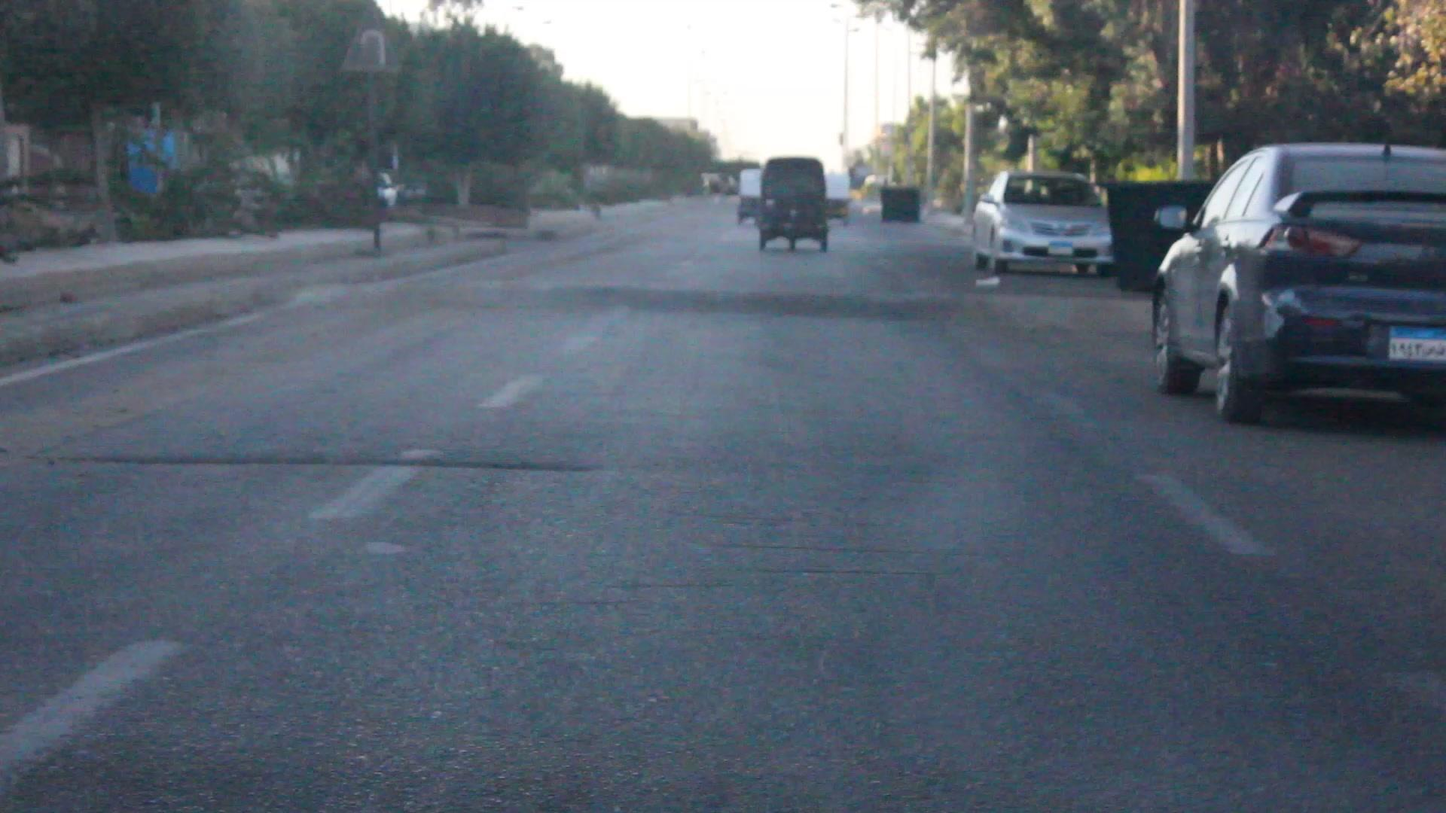Bump: (285, 282, 1158, 329)
